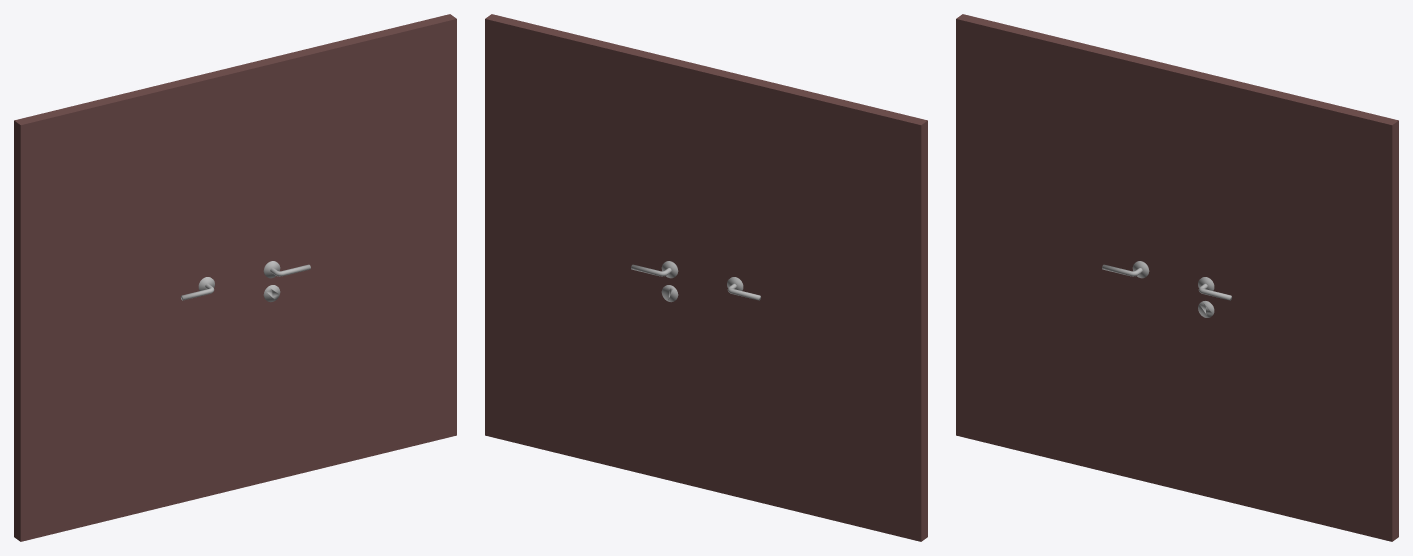
The model's file is Double_Door.fbx.
3 views of the same model, side by side, from view 1: azimuth 30°, elevation 25°; view 2: azimuth 150°, elevation 25°; view 3: azimuth 330°, elevation 25° (orthographic).
Visible parts, largest first — view 1: Right.001, Left.001; view 2: Right.001, Left.001; view 3: Left.001, Right.001.
Boxes of the visible parts, left/top/right/bottom form: Right.001: left=14, top=67, right=238, bottom=541; Left.001: left=232, top=14, right=456, bottom=488; Right.001: left=703, top=67, right=927, bottom=541; Left.001: left=485, top=14, right=709, bottom=488; Left.001: left=1174, top=67, right=1398, bottom=541; Right.001: left=956, top=14, right=1180, bottom=488.
Size of the model in its own units: 292 by 267 by 27.09.
